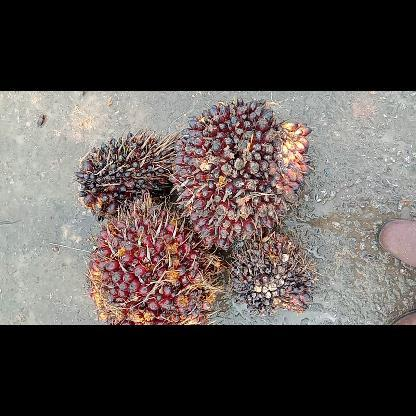Kurang masak: (174, 98, 310, 254)
TBS abnormal: (77, 132, 173, 218), (230, 231, 314, 311)
TBS masak: (88, 200, 220, 324)
